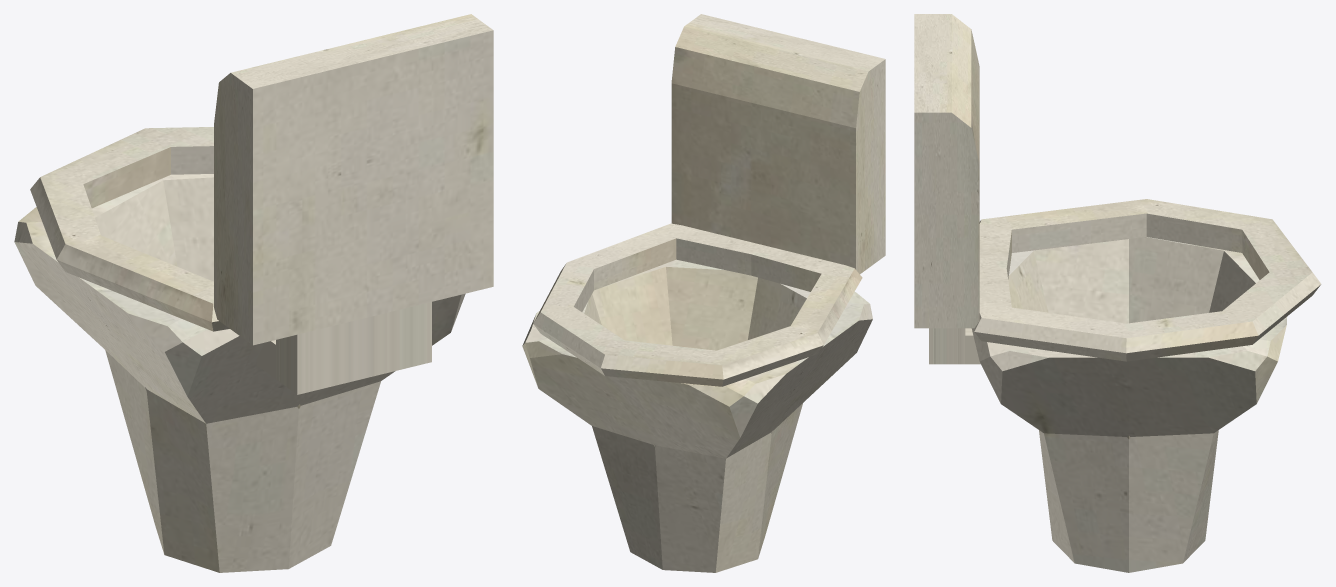
Rendered from vaso.glb.
The picture shows the model from 3 angles, left to right: view 1: azimuth 30°, elevation 25°; view 2: azimuth 150°, elevation 25°; view 3: azimuth 270°, elevation 25°; orthographic projection. The views are drawn at different scales.
Parts seen in each view (by area): view 1: toilet-col; view 2: toilet-col; view 3: toilet-col.
Boxes of the visible parts, x1,y1,x2,y2 form: toilet-col: (14, 14, 493, 572); toilet-col: (522, 14, 885, 572); toilet-col: (914, 14, 1321, 572).
Bounding box in the file's own units: 0.7244 × 1.11 × 0.8532.
2 materials, 1 textured.
